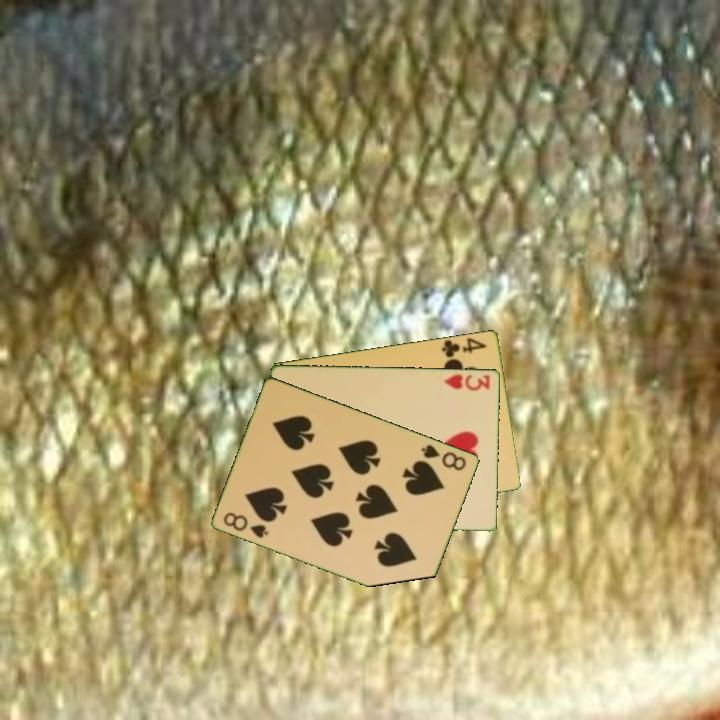3h: (441, 370, 493, 393)
4c: (438, 334, 490, 360)
8s: (220, 508, 272, 541), (418, 441, 469, 473)
